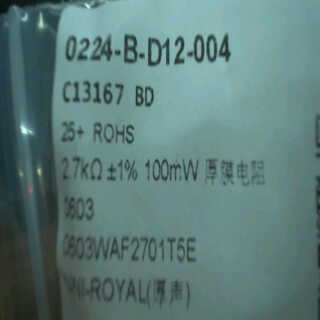2.7kR: (57, 154, 107, 184)
